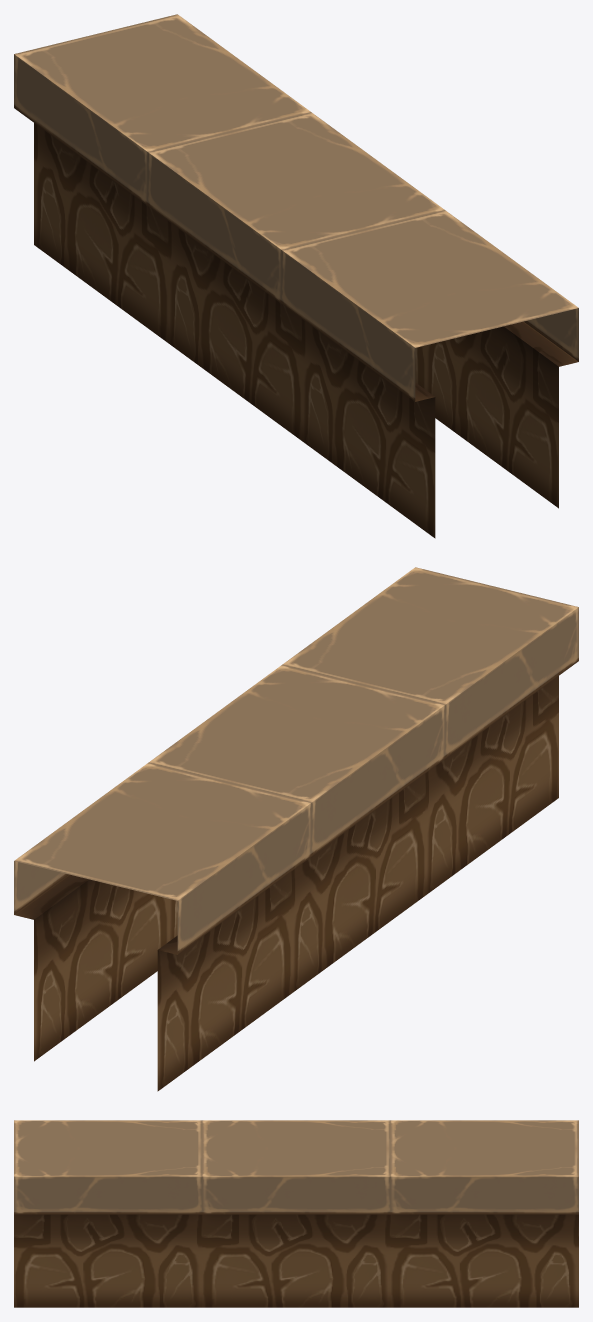
The model's file is FencePart_03.FBX.
The picture shows the model from 3 angles, top to bottom: view 1: azimuth 30°, elevation 25°; view 2: azimuth 150°, elevation 25°; view 3: azimuth 270°, elevation 25°; orthographic projection. The views are drawn at different scales.
Parts seen in each view (by area): view 1: FencePart_03; view 2: FencePart_03; view 3: FencePart_03.
Part boxes in pixels (x1,y1,x2,y2): FencePart_03: [14, 14, 578, 538]; FencePart_03: [14, 567, 578, 1091]; FencePart_03: [14, 1120, 578, 1307].
Bounding box in the file's own units: 0.1763 × 0.2016 × 0.7493.
